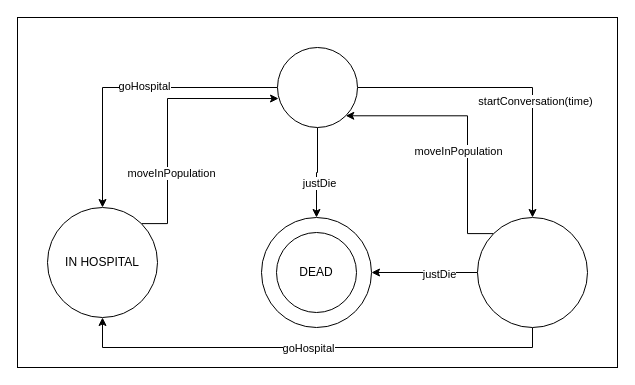
This 635x385 diagram has some shape labels left out. Each missing label, with the box of its shape:
IN CONVERSATION: (476, 216, 588, 328)
MOVING: (276, 46, 358, 128)
